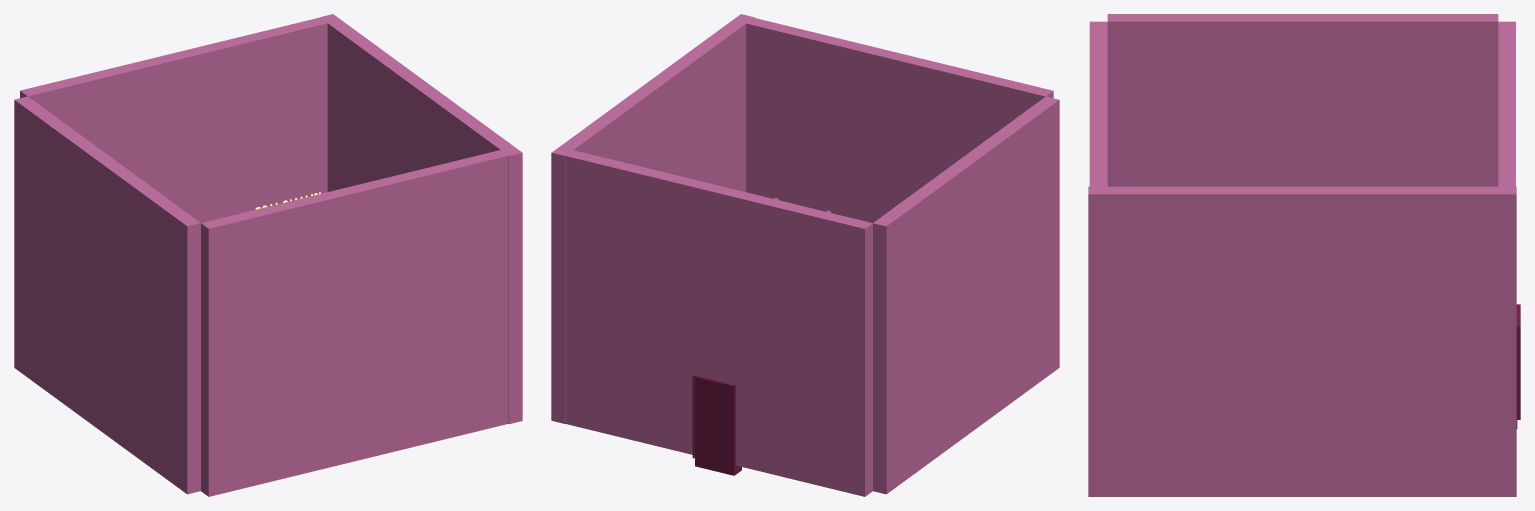
File: 3d Menu new.fbx
3 views of the same model, side by side, from view 1: azimuth 30°, elevation 25°; view 2: azimuth 150°, elevation 25°; view 3: azimuth 270°, elevation 25° (orthographic). The views are drawn at different scales.
Parts seen in each view (by area): view 1: Wall; view 2: Wall, Floor; view 3: Wall, Floor.
Boxes of the visible parts, x1,y1,x2,y2 form: Wall: (14, 14, 522, 496); Wall: (551, 14, 1059, 496); Floor: (692, 374, 741, 475); Wall: (1088, 14, 1516, 496); Floor: (1516, 304, 1520, 428).
Bounding box in the file's own units: 1200 × 977 × 1216.
